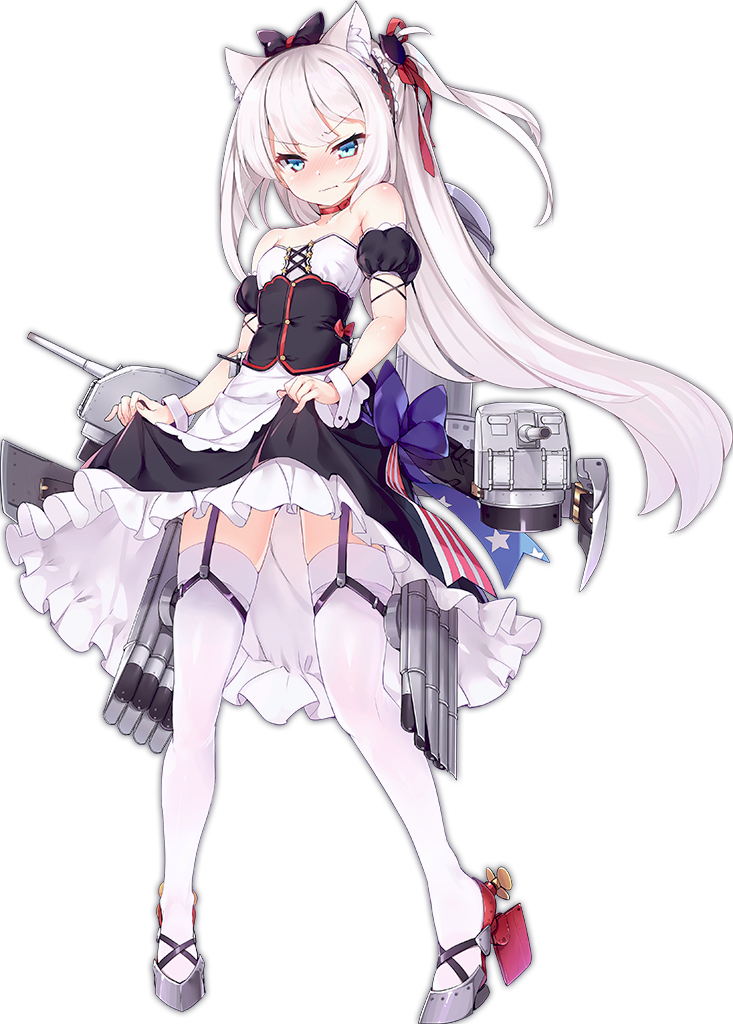person: (11, 8, 659, 866)
